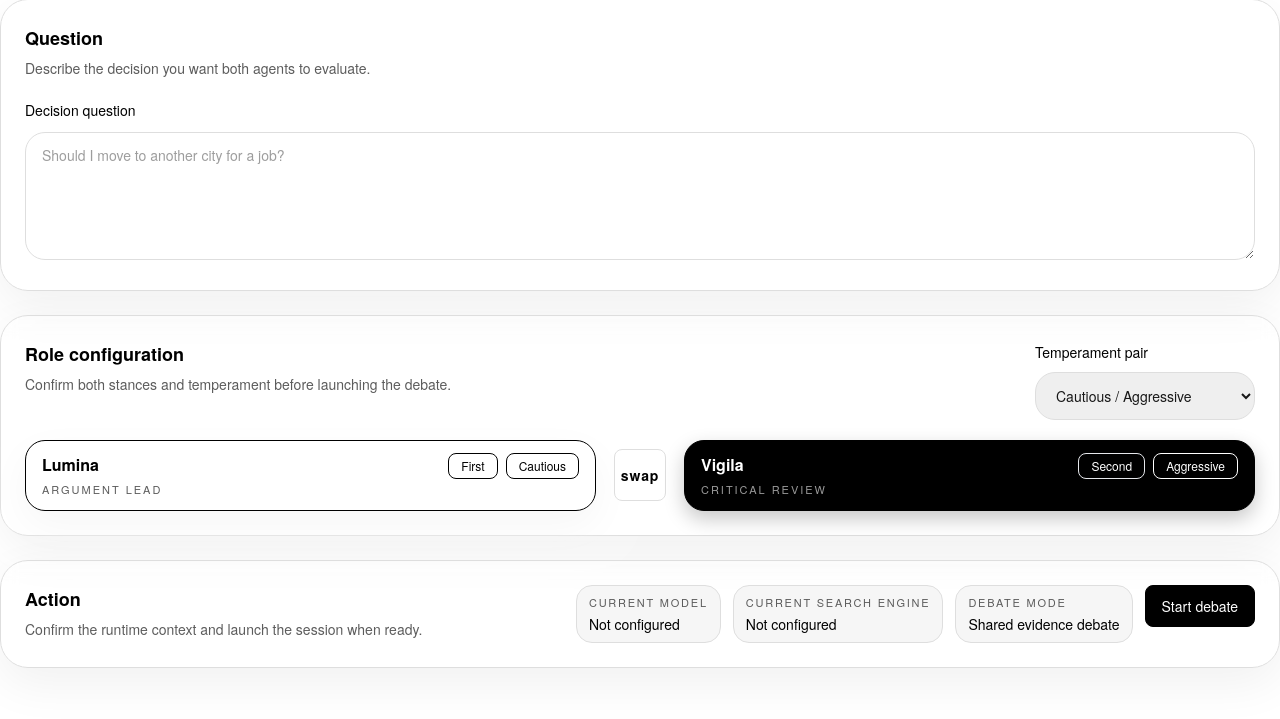
SessionShell › shows the combined advance error when polling fails
Type "Should I move to another city?" into the text box labelled "Decision question".
click(640, 196); type("Should I move to another city?")  # box [25,132,1255,260]
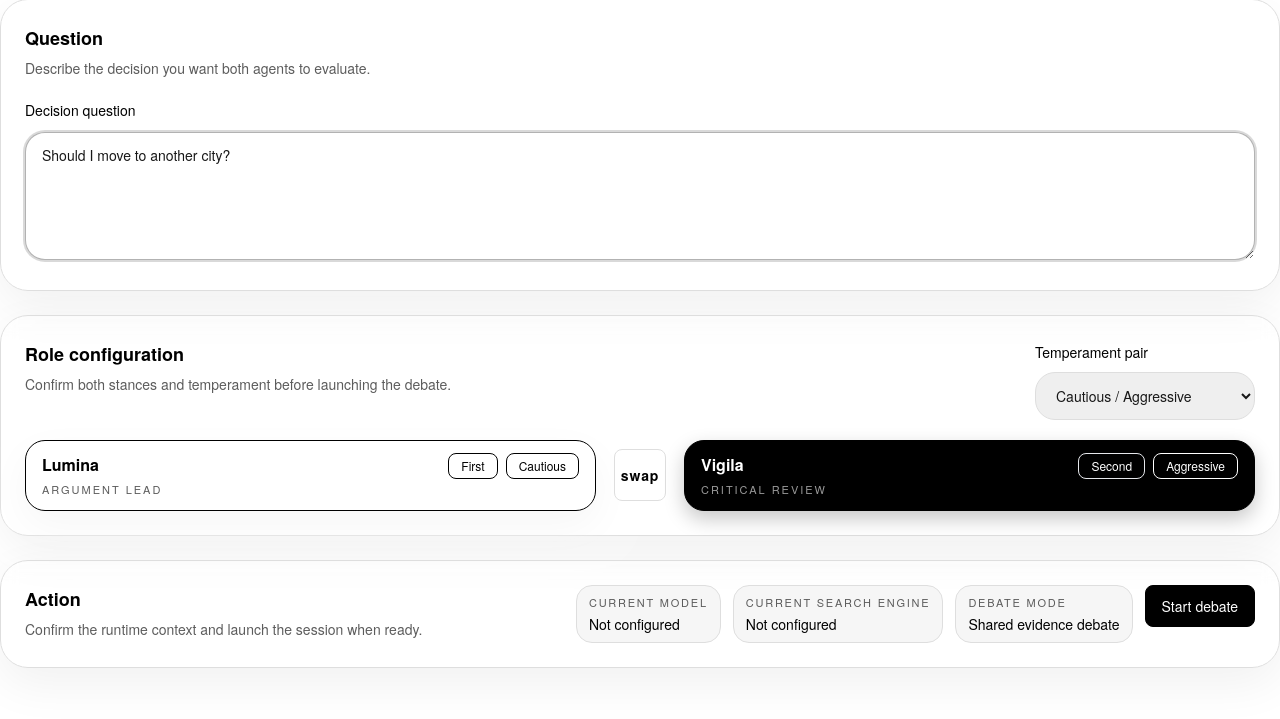
Click the button "Start debate".
click(1200, 606)  # box [1145,584,1255,626]
(page scrolled)
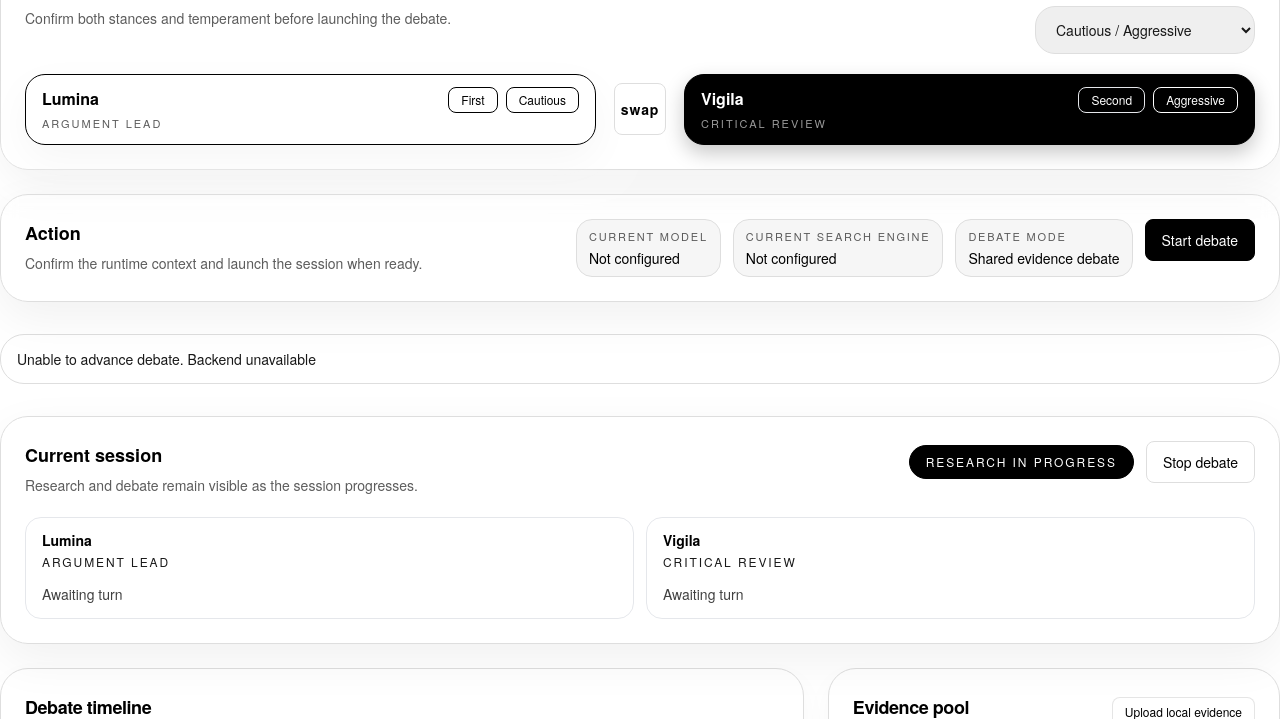
Now the message reads "Unable to advance debate. Backend unavailable", box [17,349,316,369]
